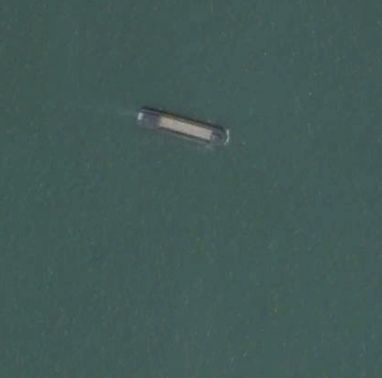boat: (135, 107, 231, 151)
